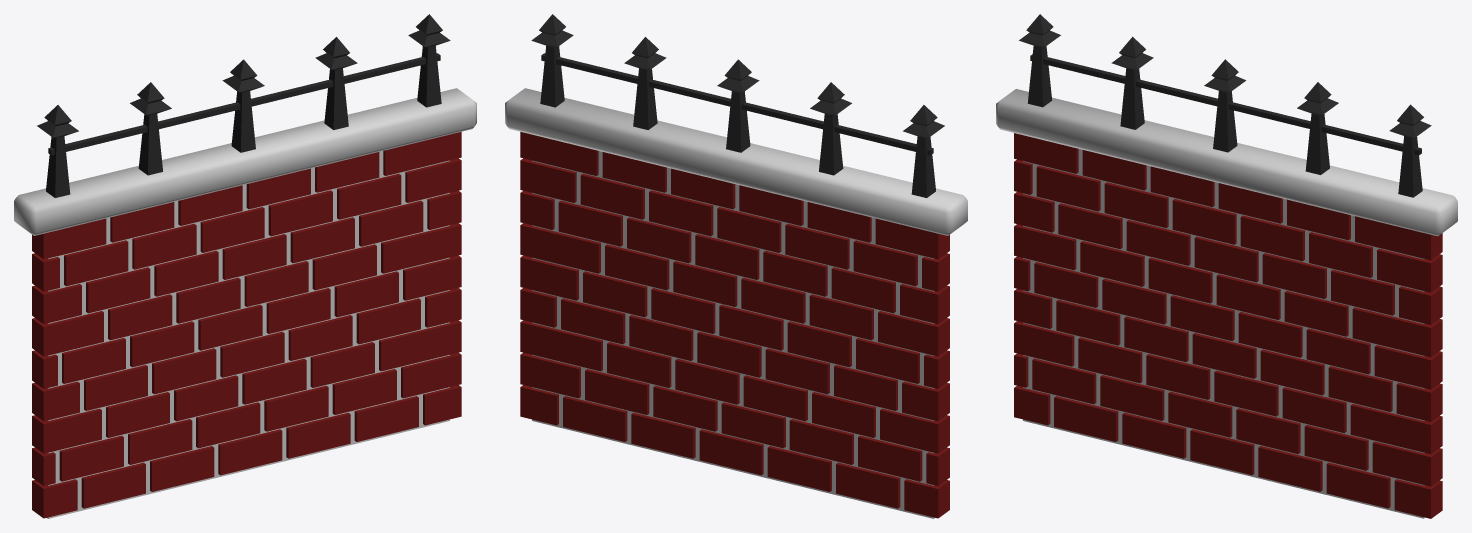
Rendered from wall.fbx.
3 views of the same model, side by side, from view 1: azimuth 30°, elevation 25°; view 2: azimuth 150°, elevation 25°; view 3: azimuth 330°, elevation 25° (orthographic).
Visible parts, largest first — view 1: Cube; view 2: Cube; view 3: Cube.
Boxes of the visible parts, x1,y1,x2,y2 form: Cube: (14,14,476,518); Cube: (505,14,967,518); Cube: (996,14,1457,518).
Size of the model in its own units: 189 by 165 by 15.21.
